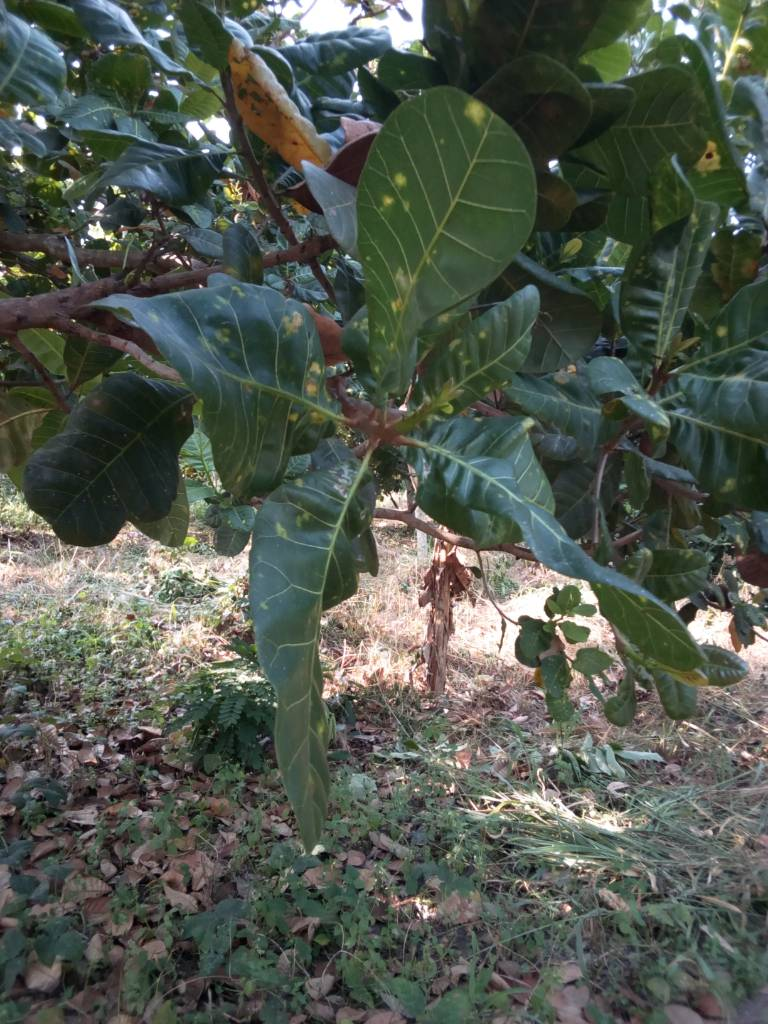Alternariose: (365, 91, 525, 428), (249, 452, 375, 850), (136, 283, 343, 491)
